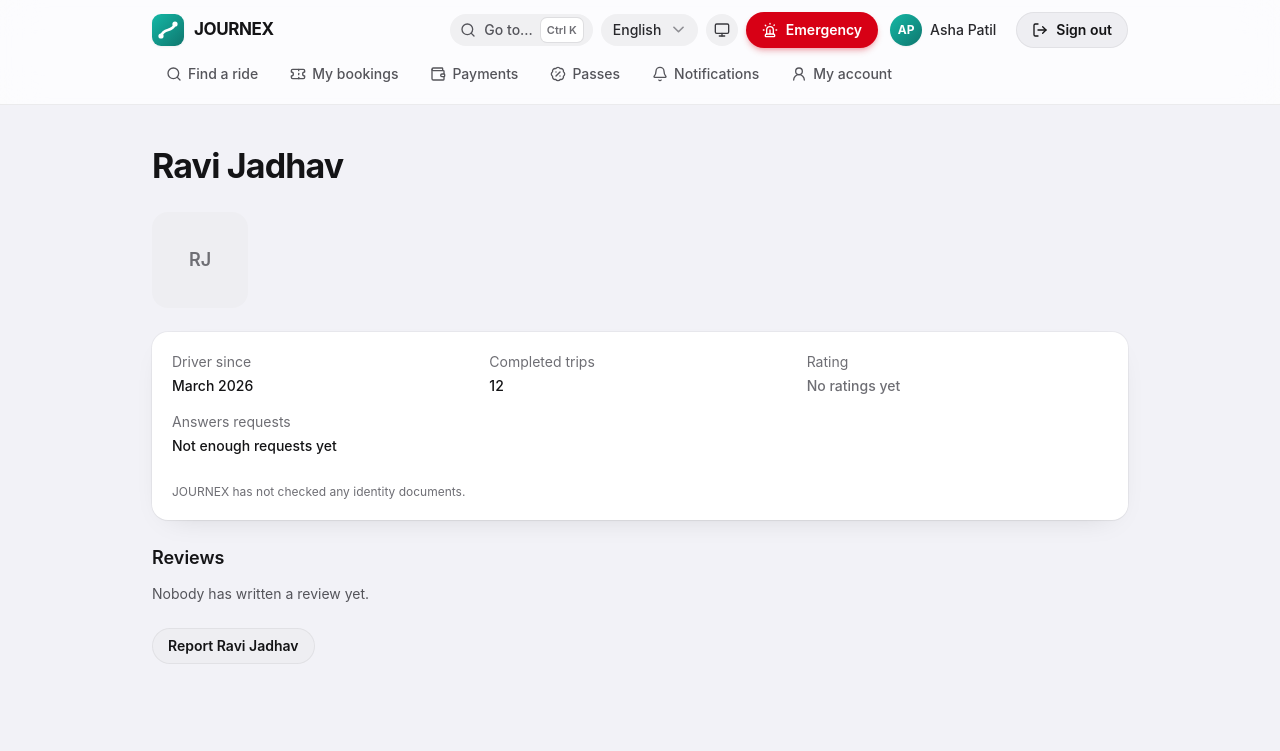
Test case: reporting and moderation › lets a member report another, pointing to the emergency number first
Step 1. Click the button "Report Ravi Jadhav" → x=233, y=646, box [152,628,314,664]
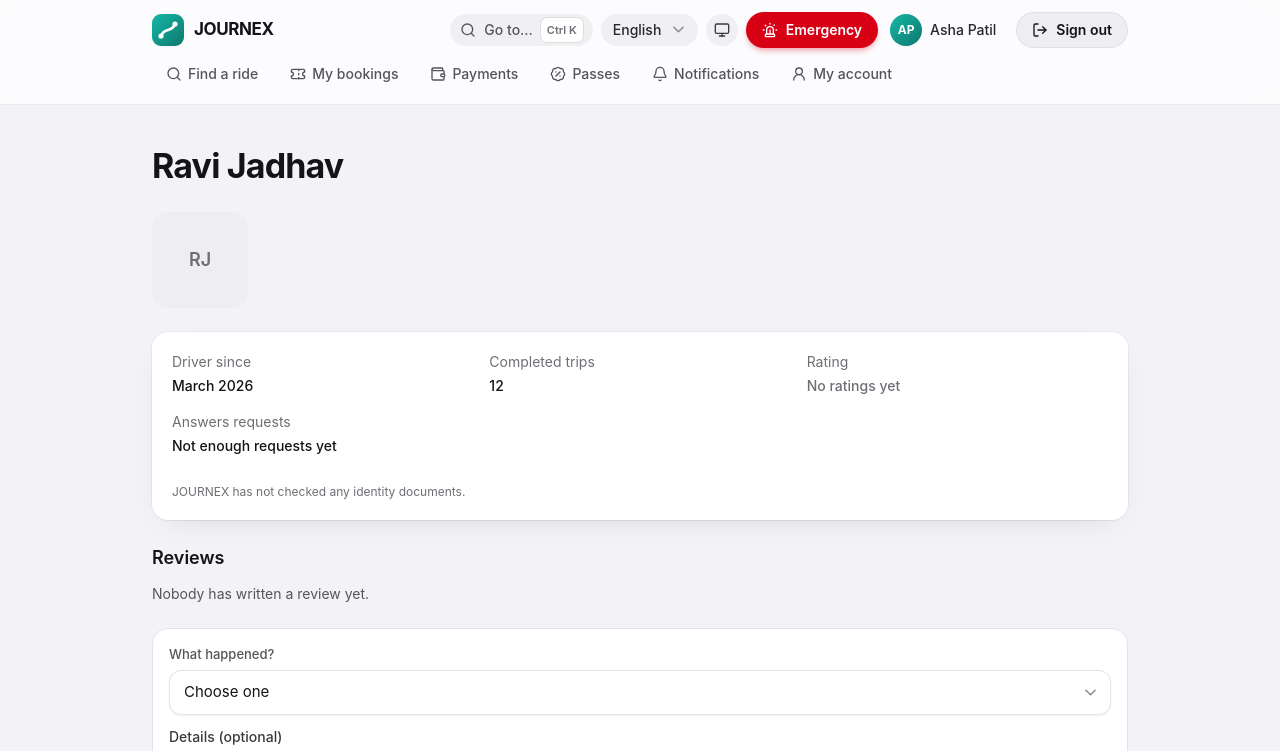
Step 2. Select "Unsafe driving" in the dropdown labelled "What happened?" → x=640, y=692, box [169,670,1111,714]
(page scrolled)
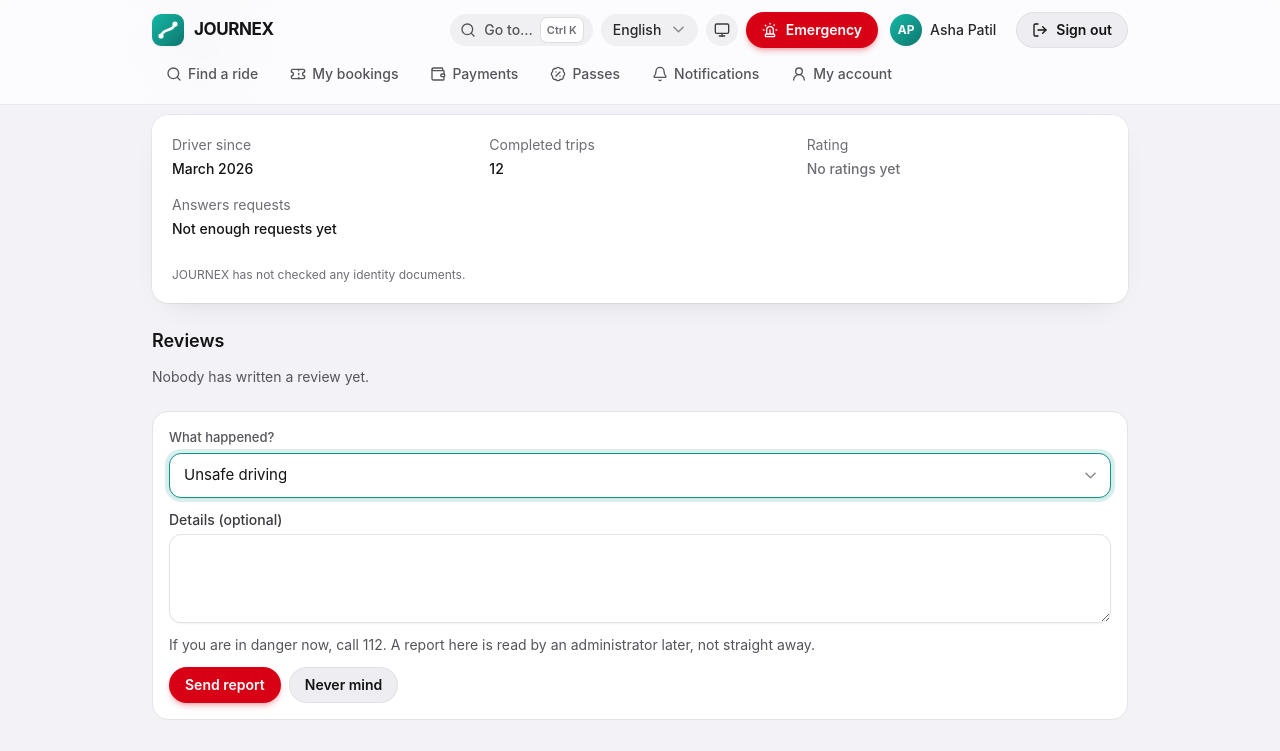
Step 3. Type "Overtook on a blind bend." into the text box labelled "Details (optional)" → x=640, y=578, box [169,534,1111,623]
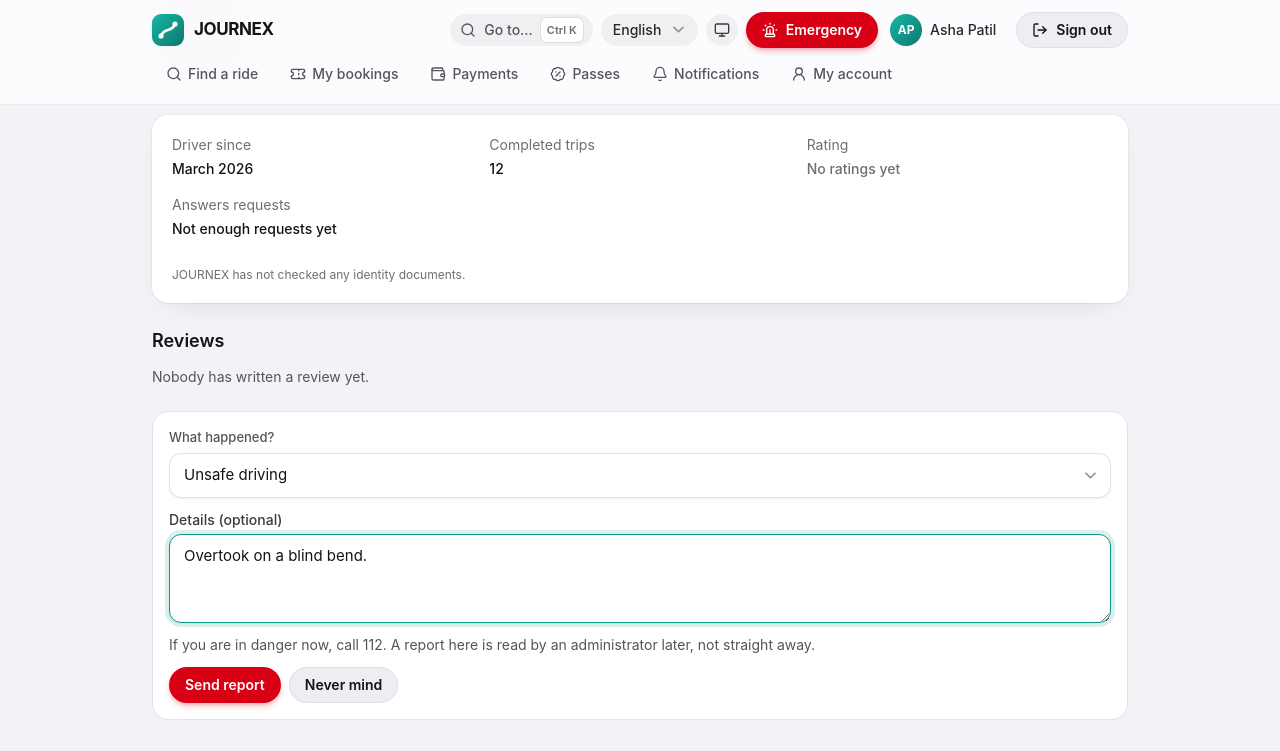
Step 4. Click the button "Send report" → x=225, y=685, box [169,667,281,703]
(page scrolled)
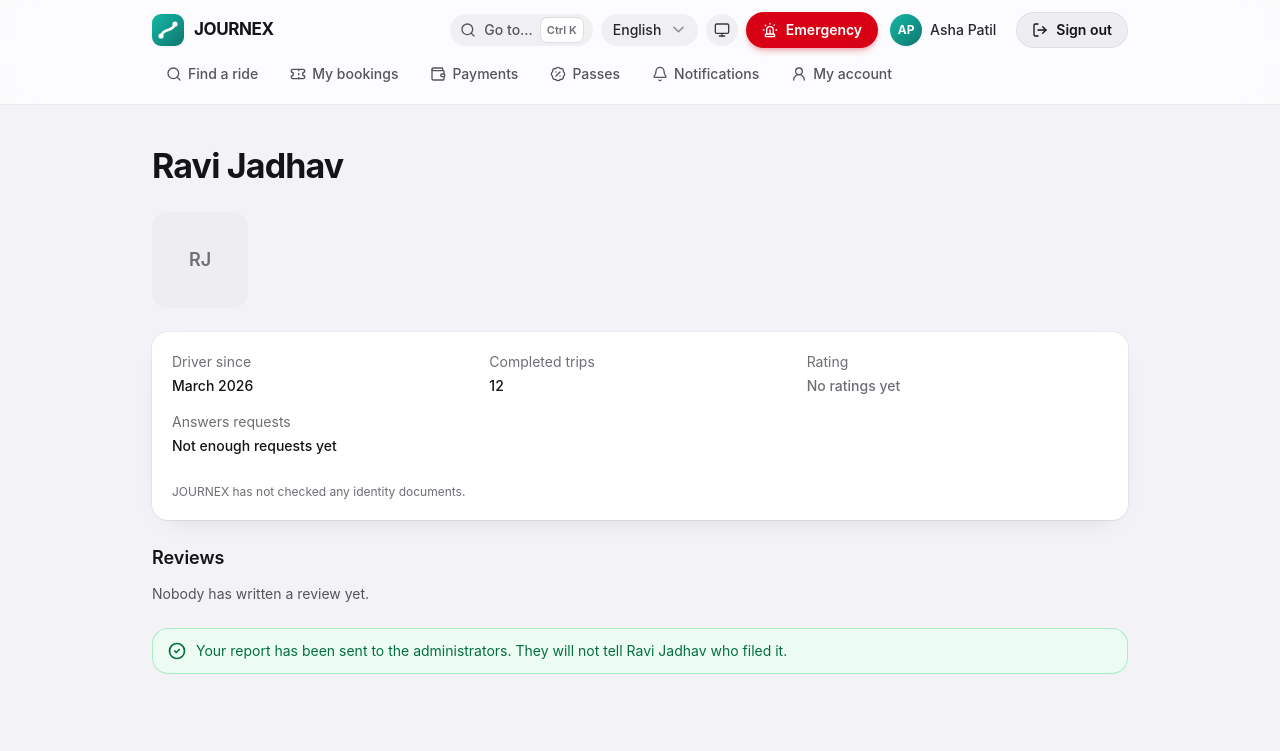
Expected: the text "Your report has been sent" is shown, [196,642,787,658]
